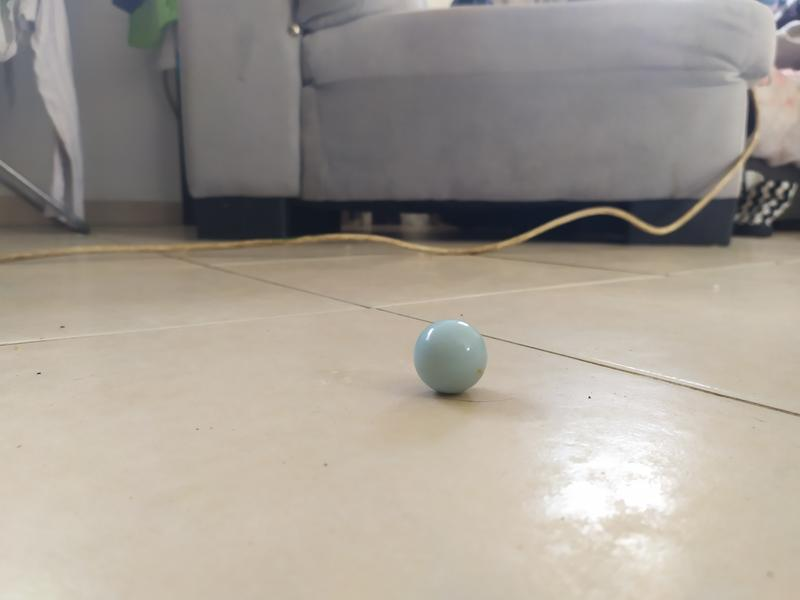Warning: (409, 316, 491, 398)
